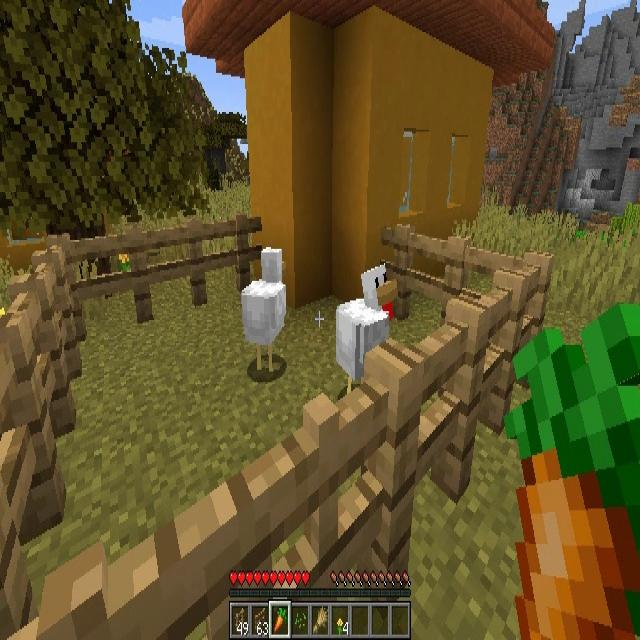duck: (334, 262, 394, 387), (241, 250, 287, 376)
